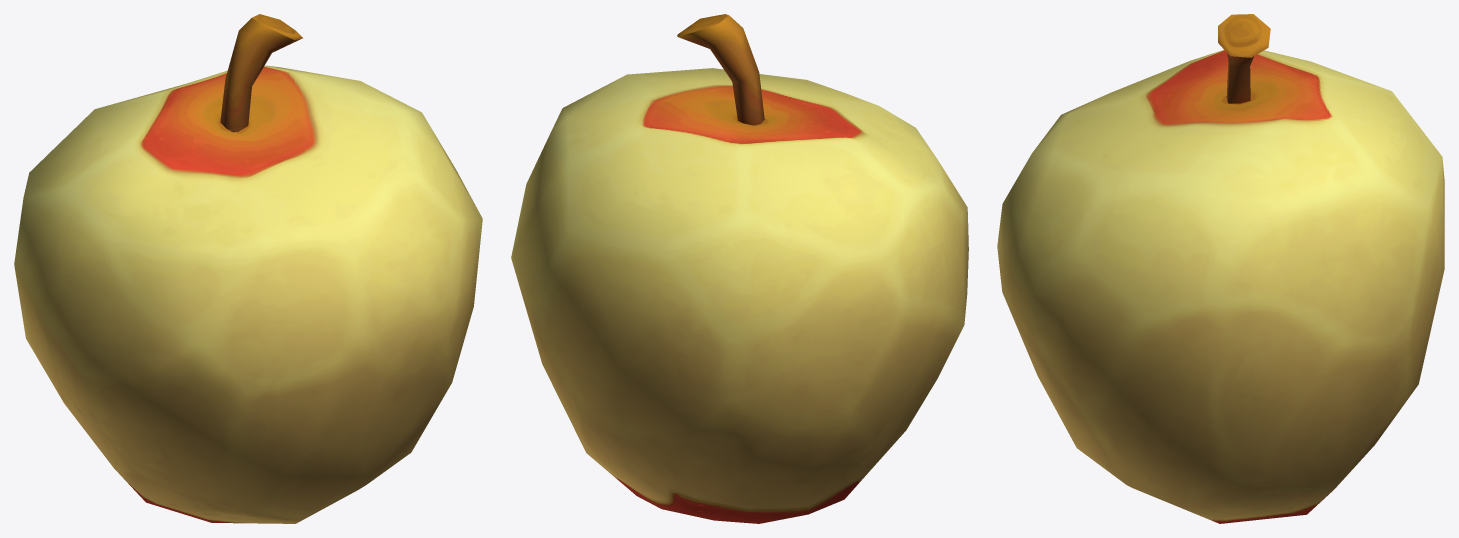
File: SM_AppleRedPeeled.fbx
3 views of the same model, side by side, from view 1: azimuth 30°, elevation 25°; view 2: azimuth 150°, elevation 25°; view 3: azimuth 270°, elevation 25° (orthographic). The views are drawn at different scales.
Visible parts, largest first — view 1: SM_AppleRedPeeled; view 2: SM_AppleRedPeeled; view 3: SM_AppleRedPeeled.
Part boxes in pixels (<box>): SM_AppleRedPeeled: <box>14,14,482,523</box>; SM_AppleRedPeeled: <box>511,14,968,523</box>; SM_AppleRedPeeled: <box>997,14,1444,523</box>.
Size of the model in its own units: 12.75 by 14.09 by 11.9.
